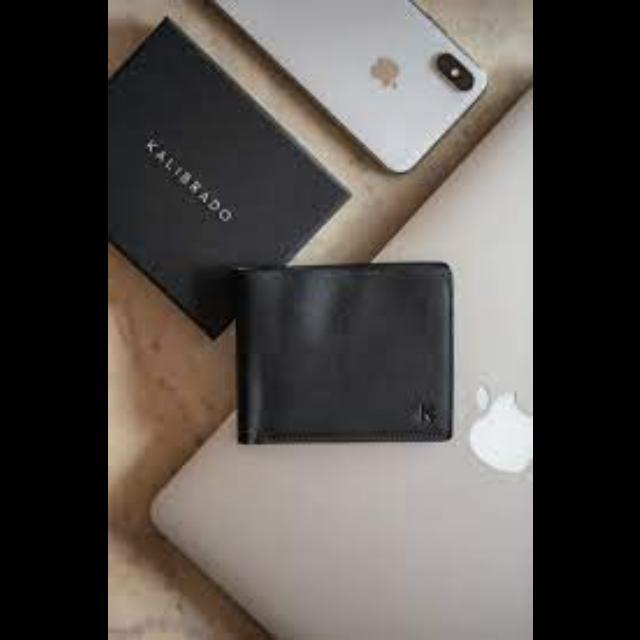wallet: (222, 257, 532, 475)
